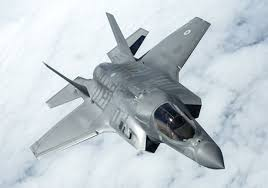fighter: (27, 9, 231, 172)
